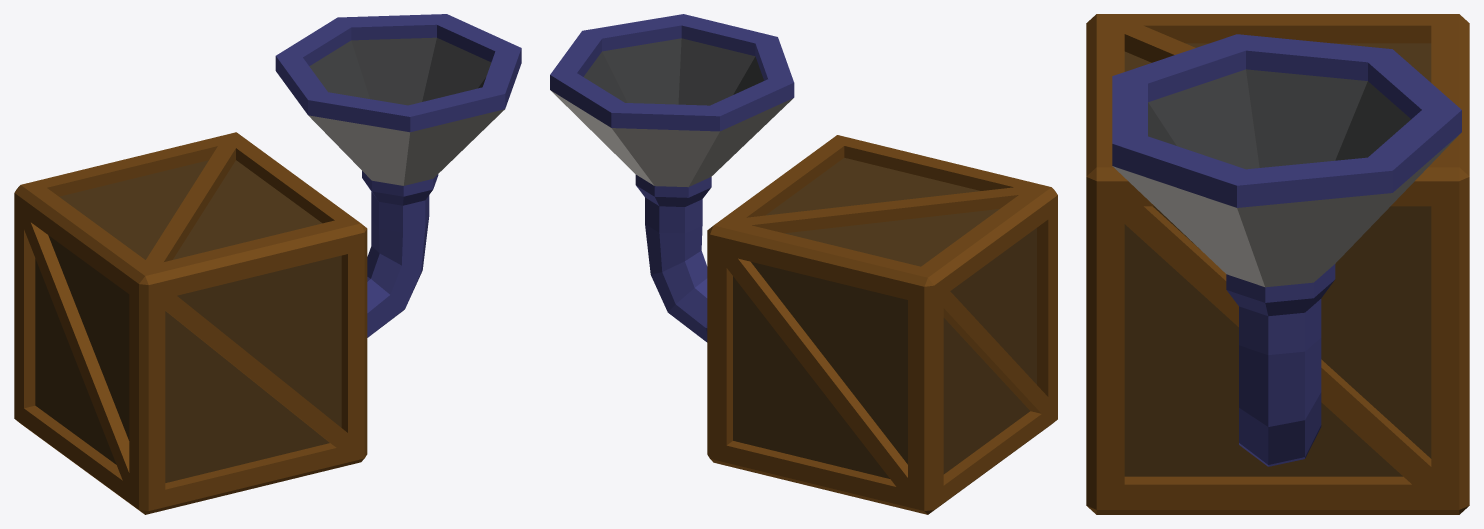
Rendered from air drop.fbx.
3 renders of one model, left to right at view 1: azimuth 30°, elevation 25°; view 2: azimuth 150°, elevation 25°; view 3: azimuth 270°, elevation 25°, orthographic. The views are drawn at different scales.
Visible parts, largest first — view 1: crate; view 2: crate; view 3: crate.
Boxes of the visible parts, x1,y1,x2,y2 form: crate: [14, 14, 521, 514]; crate: [550, 14, 1057, 514]; crate: [1086, 14, 1469, 514].
Bounding box in the file's own units: 0.9435 × 0.6866 × 0.5.
